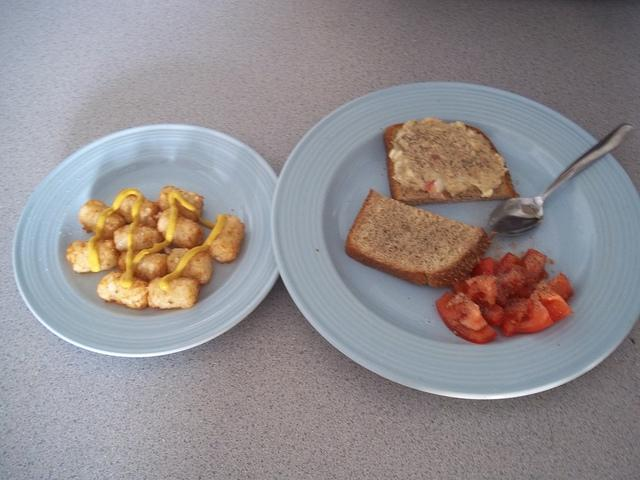tomato: (434, 291, 498, 345), (451, 274, 506, 327), (496, 248, 546, 305), (498, 290, 556, 336), (534, 280, 574, 322), (546, 271, 574, 302), (472, 258, 495, 277)
